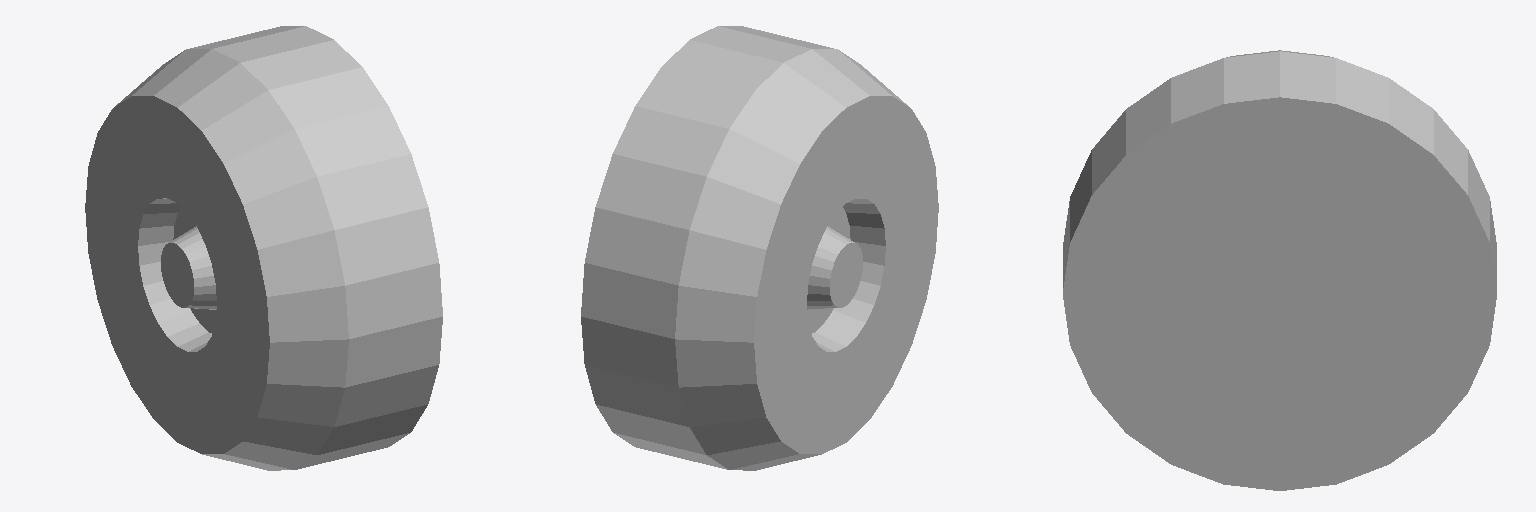
File: wheelTruck.obj
The picture shows the model from 3 angles: view 1: azimuth 30°, elevation 25°; view 2: azimuth 150°, elevation 25°; view 3: azimuth 270°, elevation 25°; orthographic projection.
Parts seen in each view (by area): view 1: wheelTruck; view 2: wheelTruck; view 3: wheelTruck.
Boxes of the visible parts, x1=… form: wheelTruck: x1=85, y1=26, x2=442, y2=470; wheelTruck: x1=581, y1=26, x2=938, y2=470; wheelTruck: x1=1063, y1=50, x2=1496, y2=490.
Bounding box in the file's own units: 0.1875 × 0.45 × 0.45.